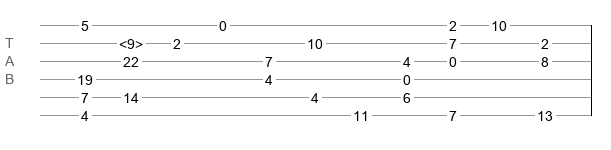0: (219, 18, 227, 28), (403, 72, 411, 82), (449, 54, 457, 64)
10: (307, 36, 323, 46), (491, 18, 507, 28)
11: (353, 108, 369, 118)
13: (537, 108, 553, 118)
14: (123, 90, 139, 100)
19: (77, 72, 93, 82)
2: (173, 36, 181, 46), (449, 18, 457, 28), (541, 36, 549, 46)
22: (123, 54, 139, 64)
4: (81, 108, 89, 118), (265, 72, 273, 82), (311, 90, 319, 100), (403, 54, 411, 64)
5: (81, 18, 89, 28)
6: (403, 90, 411, 100)
7: (81, 90, 89, 100), (265, 54, 273, 64), (449, 36, 457, 46), (449, 108, 457, 118)
8: (541, 54, 549, 64)
harmonic: (119, 36, 143, 46)
